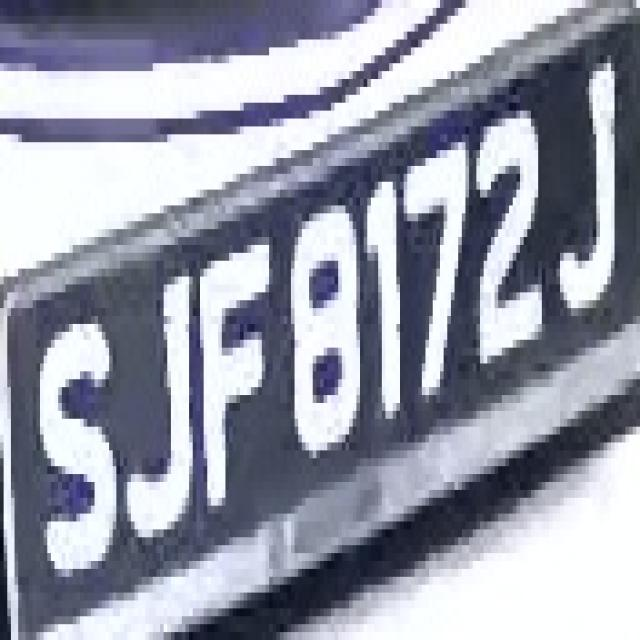1: (364, 158, 407, 450)
2: (458, 87, 546, 387)
7: (393, 119, 469, 418)
8: (284, 182, 360, 466)
F: (186, 198, 276, 538)
J: (538, 48, 633, 348), (113, 261, 200, 561)
S: (29, 316, 131, 585)
